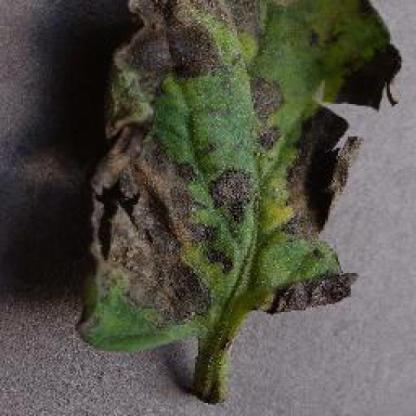Tomato_Blight: (76, 0, 400, 349)
